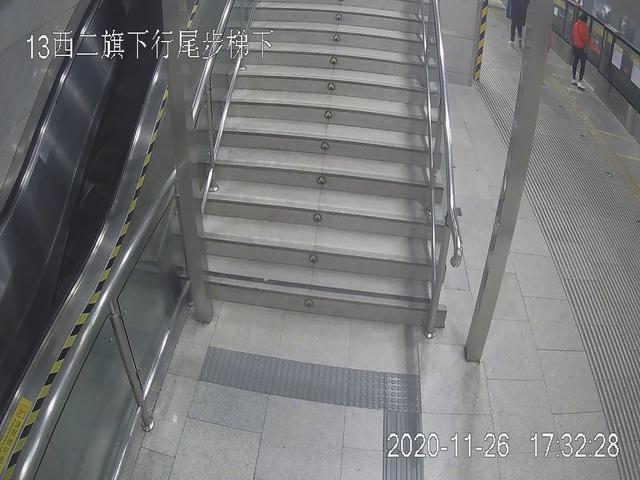person: (563, 10, 597, 90)
